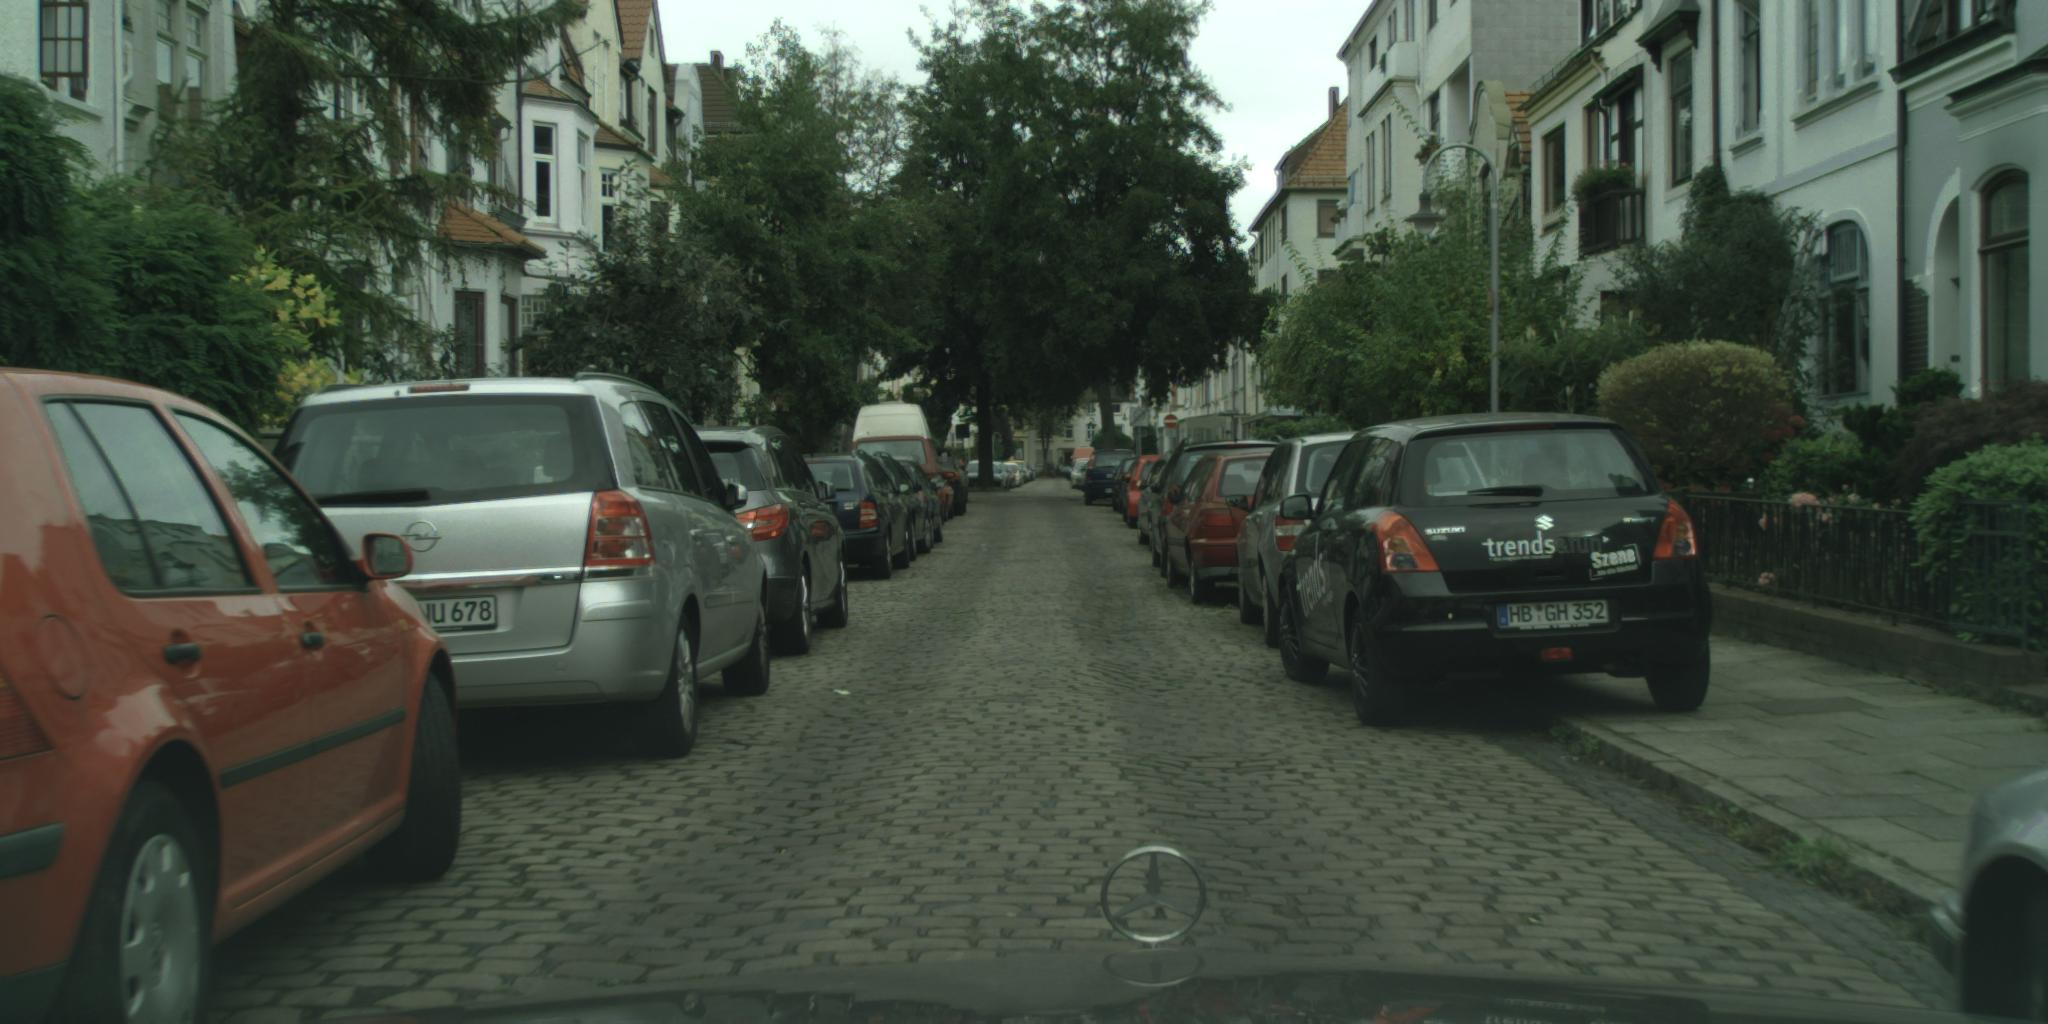car: (1, 364, 464, 1024), (269, 372, 775, 760), (1277, 411, 1718, 729), (686, 424, 852, 661), (1224, 431, 1371, 649), (1928, 764, 2048, 1024), (1148, 436, 1287, 579), (1160, 453, 1279, 609), (795, 451, 916, 583), (870, 452, 936, 559), (886, 457, 944, 543), (1138, 452, 1179, 546), (1119, 456, 1168, 529), (1084, 451, 1138, 505), (1108, 457, 1145, 513), (933, 457, 968, 517), (1057, 458, 1098, 491)
